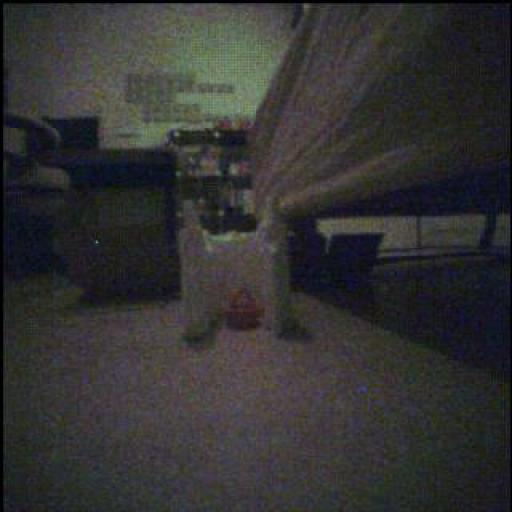basket: (227, 289, 265, 331)
